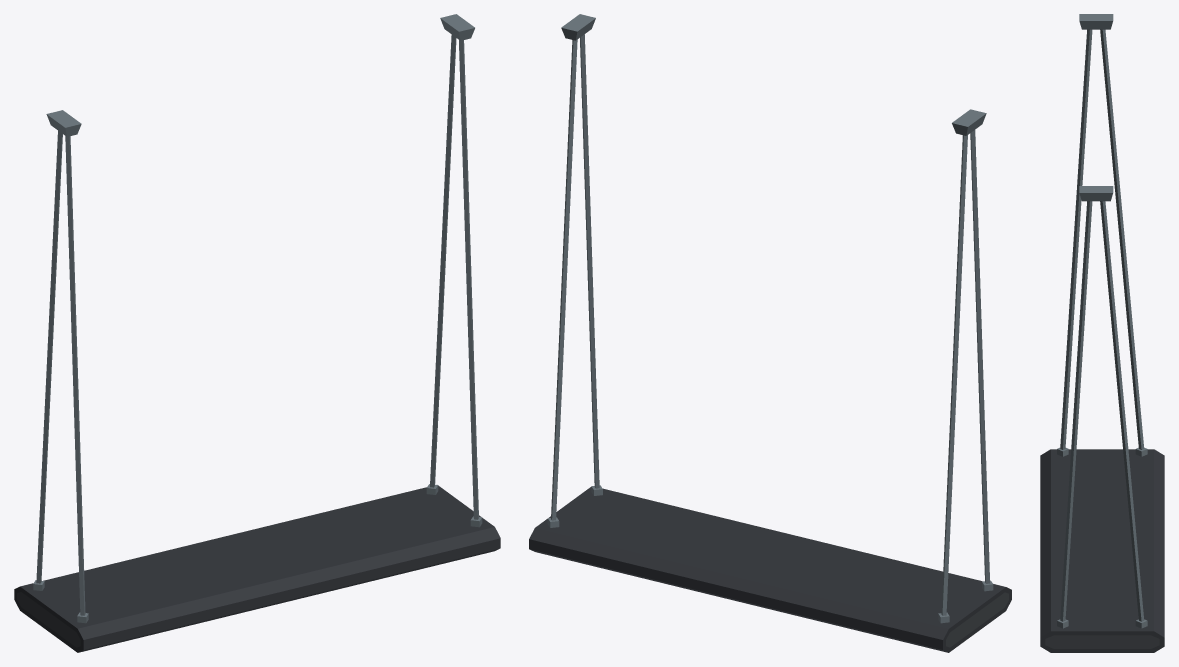
The model's file is SM_Prop_Lighting_Ceiling_Bar_13.obj.
3 renders of one model, left to right at view 1: azimuth 30°, elevation 25°; view 2: azimuth 150°, elevation 25°; view 3: azimuth 270°, elevation 25°, orthographic. The views are drawn at different scales.
Parts seen in each view (by area): view 1: SM_Prop_Lighting_Ceiling_Bar_13_0; view 2: SM_Prop_Lighting_Ceiling_Bar_13_0; view 3: SM_Prop_Lighting_Ceiling_Bar_13_0.
Boxes of the visible parts, x1,y1,x2,y2 form: SM_Prop_Lighting_Ceiling_Bar_13_0: (14, 14, 500, 652); SM_Prop_Lighting_Ceiling_Bar_13_0: (529, 14, 1011, 652); SM_Prop_Lighting_Ceiling_Bar_13_0: (1040, 14, 1164, 652).
Bounding box in the file's own units: 1.43 × 1.68 × 0.4129.
1 material, 1 textured.
